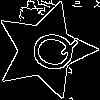Q: (20, 25, 80, 77)
